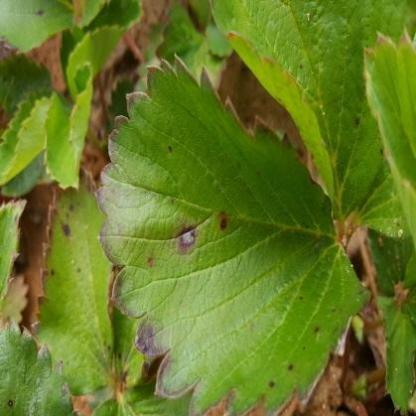Strawberry_Leaf_Spot: (93, 52, 373, 415), (209, 0, 416, 223), (35, 162, 117, 395), (0, 316, 77, 416), (0, 0, 76, 57), (109, 303, 156, 390), (0, 196, 28, 310)
